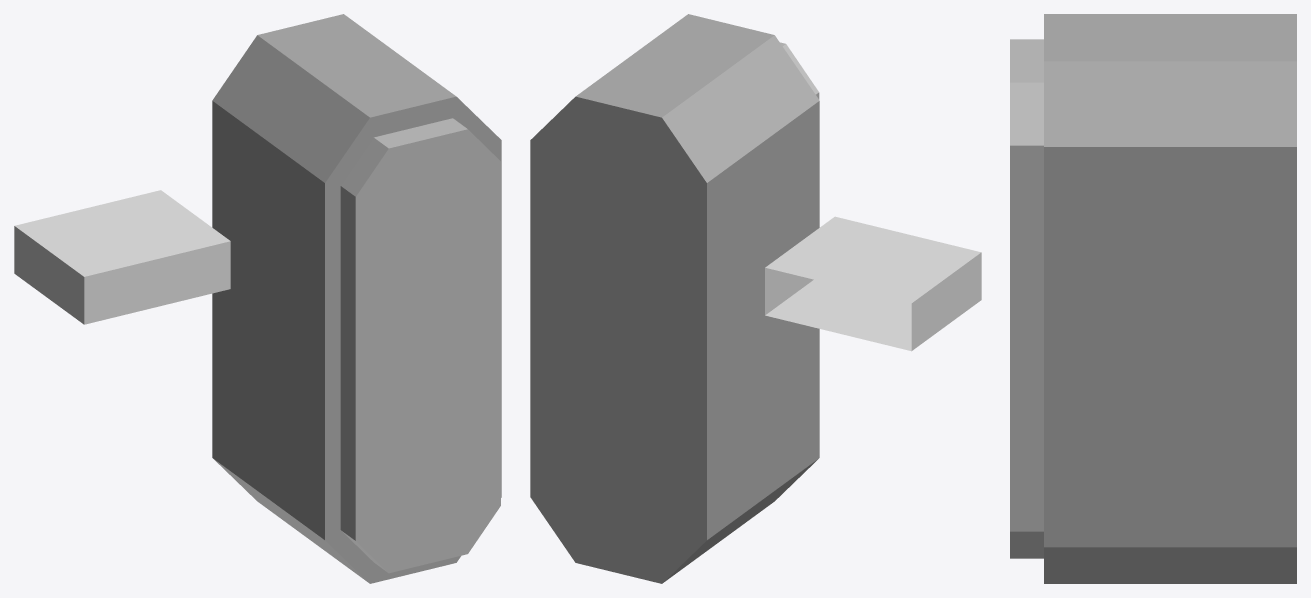
Rendered from button_A.FBX.
The picture shows the model from 3 angles, left to right: view 1: azimuth 30°, elevation 25°; view 2: azimuth 150°, elevation 25°; view 3: azimuth 270°, elevation 25°; orthographic projection. The views are drawn at different scales.
Visible parts, largest first — view 1: button_A, button_A_glow; view 2: button_A, button_A_glow; view 3: button_A.
Boxes of the visible parts, x1,y1,x2,y2 form: button_A: [212, 14, 501, 583]; button_A_glow: [14, 190, 230, 324]; button_A: [530, 14, 819, 583]; button_A_glow: [765, 216, 981, 351]; button_A: [1010, 14, 1296, 583].
Bounding box in the file's own units: 10.57 × 12.47 × 6.2.
